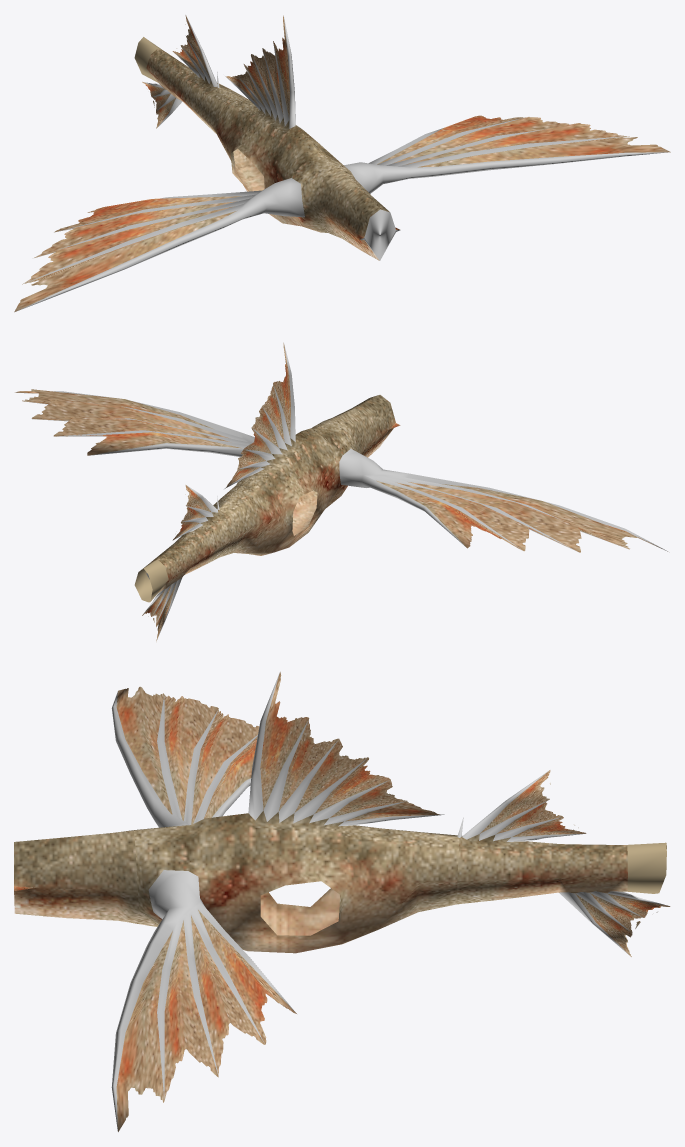
3 views of the same model, one above another, from view 1: azimuth 30°, elevation 25°; view 2: azimuth 150°, elevation 25°; view 3: azimuth 270°, elevation 25° (orthographic). The views are drawn at different scales.
Parts seen in each view (by area): view 1: mesh00; view 2: mesh00; view 3: mesh00.
Boxes of the visible parts, x1,y1,x2,y2 form: mesh00: (14, 15, 670, 312); mesh00: (15, 342, 667, 641); mesh00: (14, 671, 670, 1131).
Bounding box in the file's own units: 1446 × 437 × 908.
